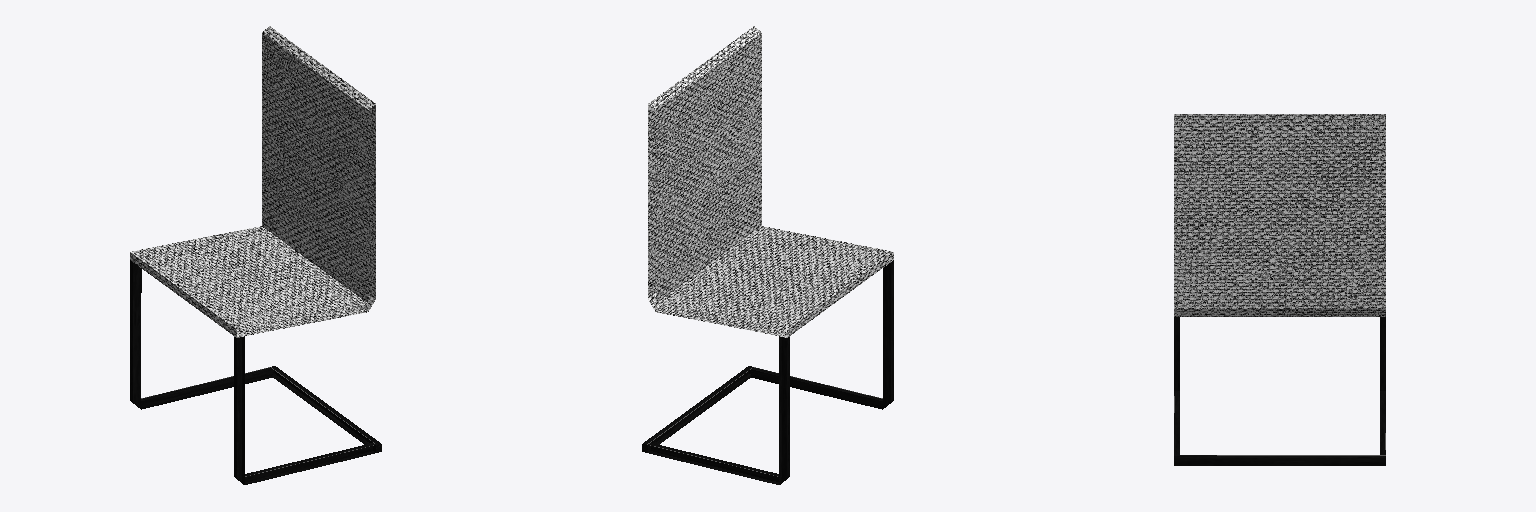
3 views of the same model, side by side, from view 1: azimuth 30°, elevation 25°; view 2: azimuth 150°, elevation 25°; view 3: azimuth 270°, elevation 25° (orthographic).
Visible parts, largest first — view 1: respaldo_Plane, base_respaldo_Plane.005; view 2: respaldo_Plane, base_respaldo_Plane.005; view 3: respaldo_Plane, base_respaldo_Plane.005.
Part boxes in pixels (bbox=[...]): respaldo_Plane: bbox=[130, 26, 375, 337]; base_respaldo_Plane.005: bbox=[130, 260, 381, 484]; respaldo_Plane: bbox=[648, 26, 893, 337]; base_respaldo_Plane.005: bbox=[642, 260, 893, 484]; respaldo_Plane: bbox=[1174, 114, 1385, 316]; base_respaldo_Plane.005: bbox=[1174, 317, 1385, 465].
Bounding box in the file's own units: 0.55 × 1.27 × 0.7.
2 materials, 2 textured.